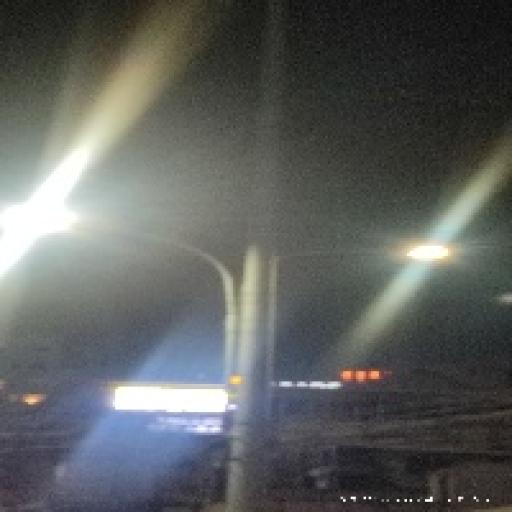Working: (0, 188, 80, 261), (386, 231, 458, 276)
